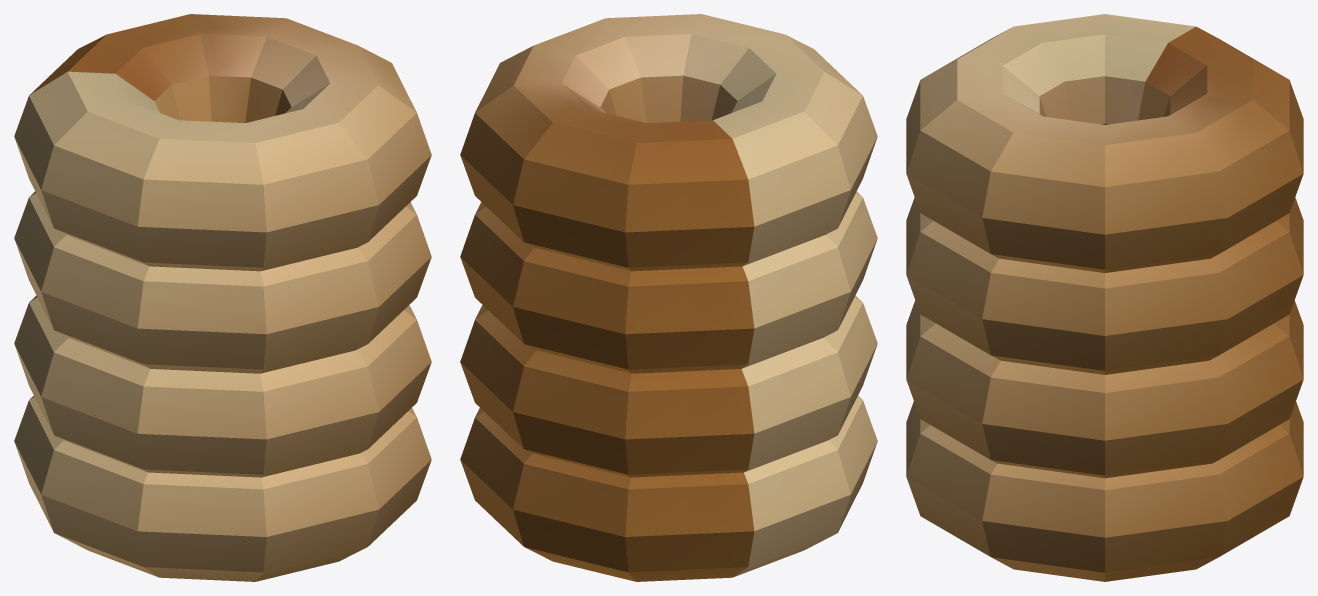
Rendered from waterparkkid.fbx.
3 views of the same model, side by side, from view 1: azimuth 30°, elevation 25°; view 2: azimuth 150°, elevation 25°; view 3: azimuth 270°, elevation 25° (orthographic).
Visible parts, largest first — view 1: Torus; view 2: Torus; view 3: Torus.
Part boxes in pixels (x1,y1,x2,y2): Torus: (14,14,431,581); Torus: (460,14,877,581); Torus: (906,14,1303,581).
Size of the model in its own units: 318 by 367 by 302.
